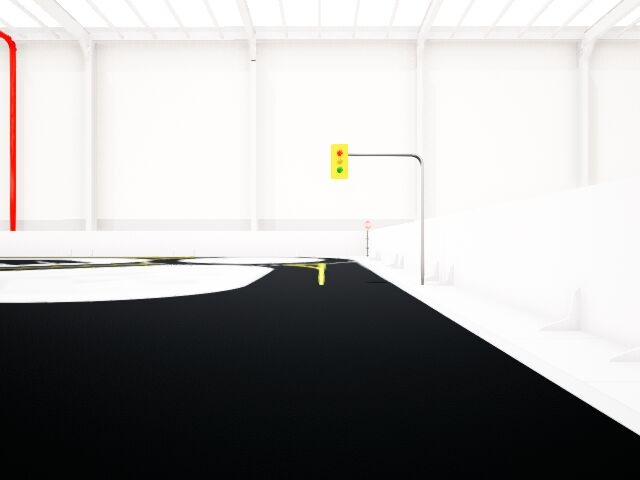red: (330, 145, 348, 179)
